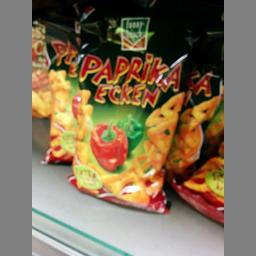chips: (73, 34, 184, 212)
